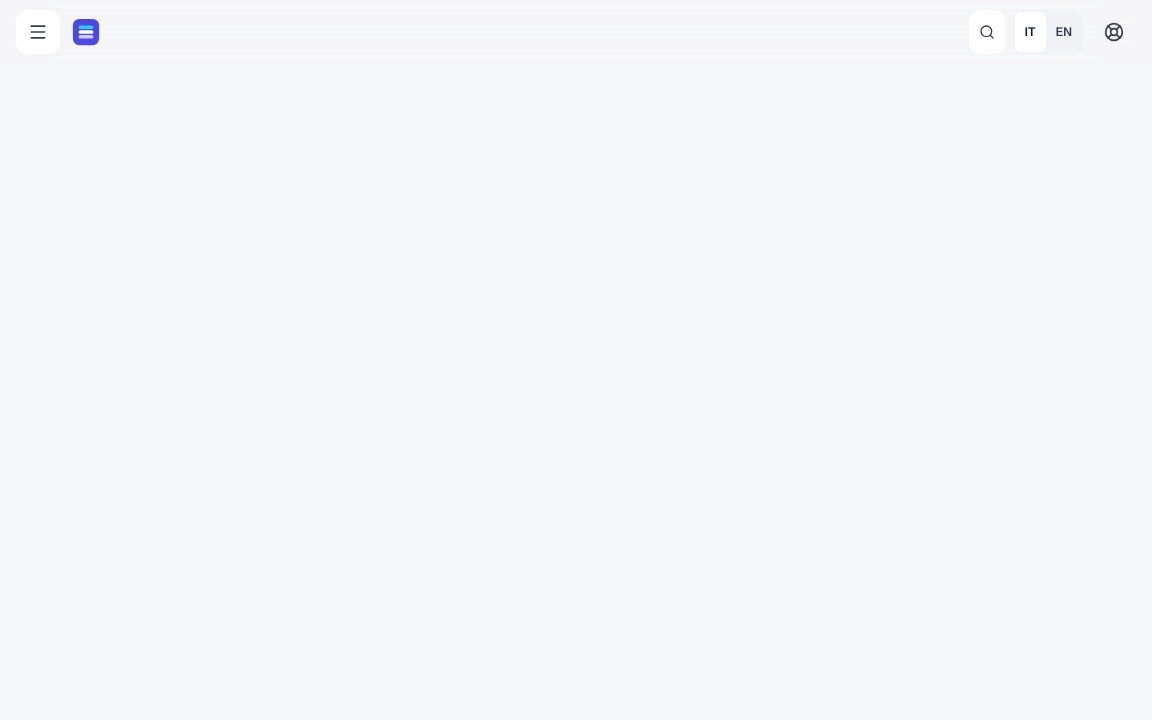
Test: Topbar quick search › says so when nothing matches instead of showing an empty list
The width and height of the screenshot is (1152, 720).
Click the button named "Cerca un laboratorio".
click(987, 32)  # box [969,10,1005,54]
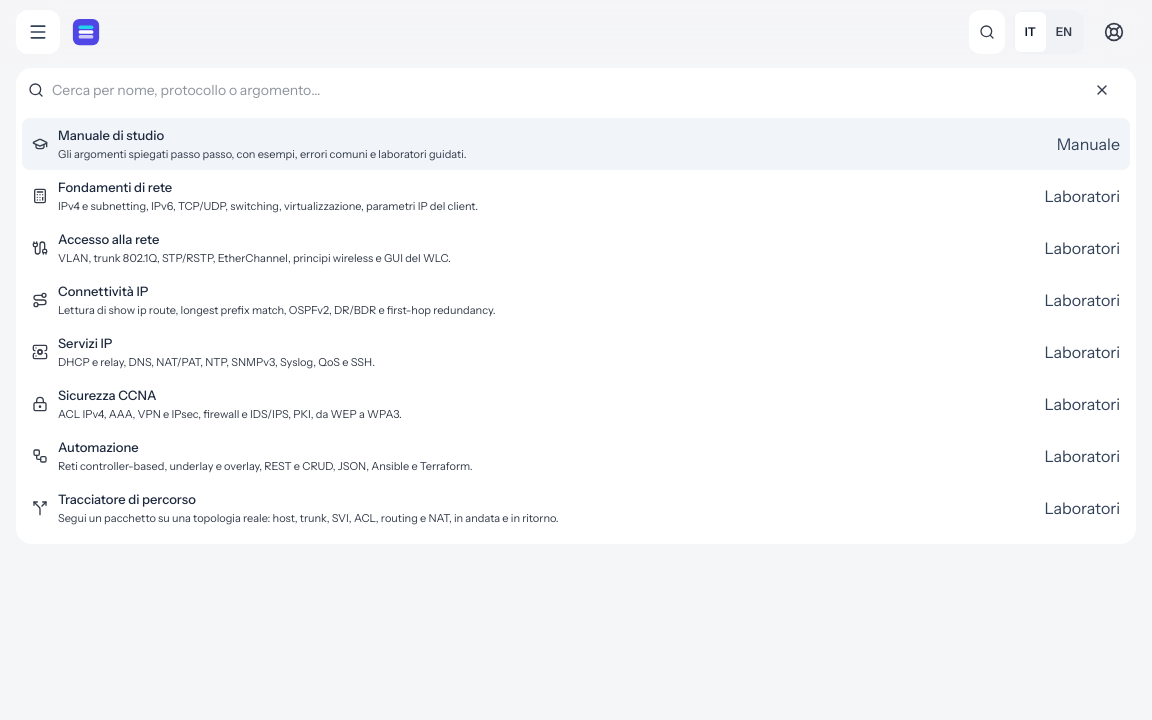
Type "zzzznotathing" into the dropdown named "Cerca un laboratorio".
click(562, 90); type("zzzznotathing")  # box [52,68,1072,112]
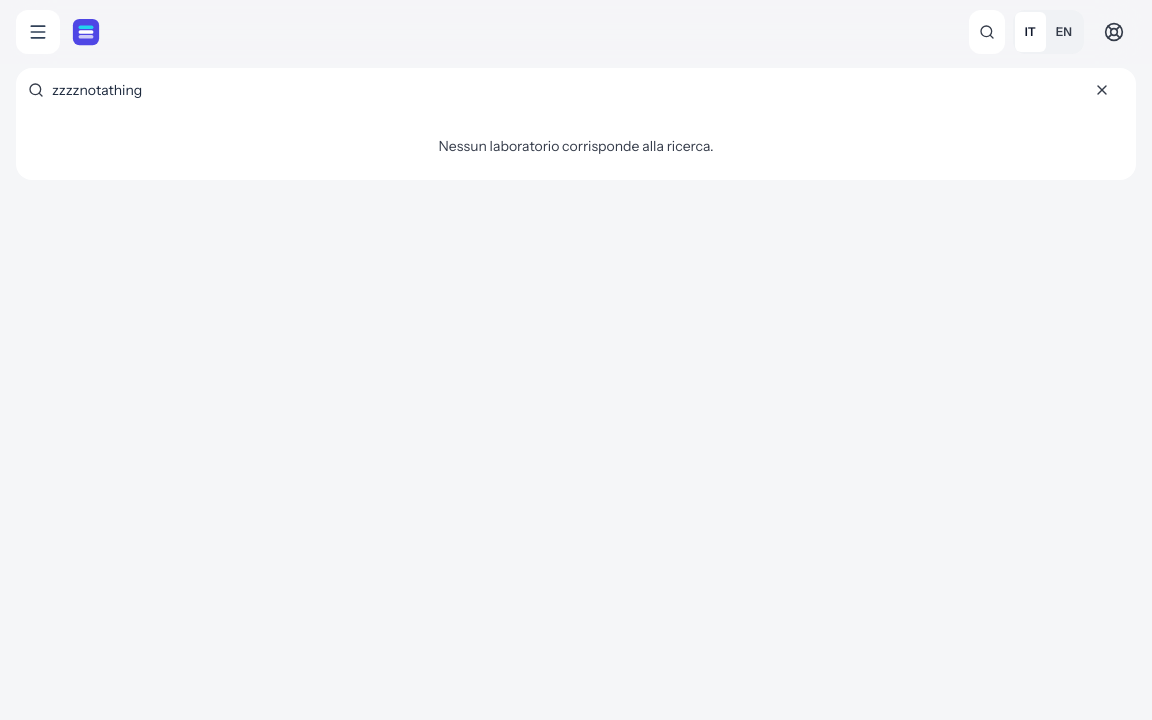
Now the dropdown named "Cerca un laboratorio" is collapsed, box [52,68,1072,112]
